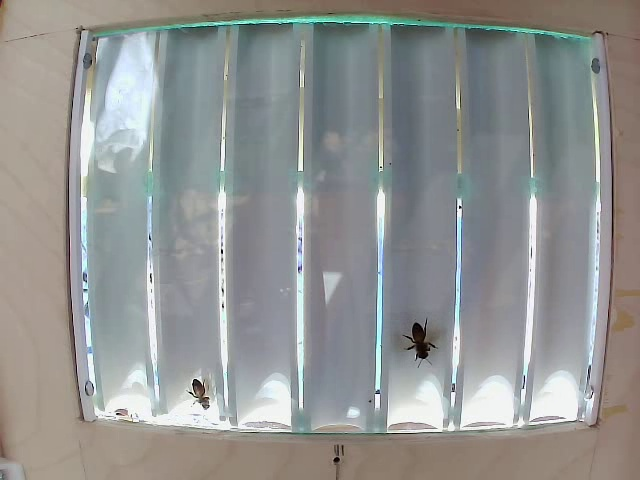bee: (397, 306, 448, 376), (180, 381, 221, 417)
